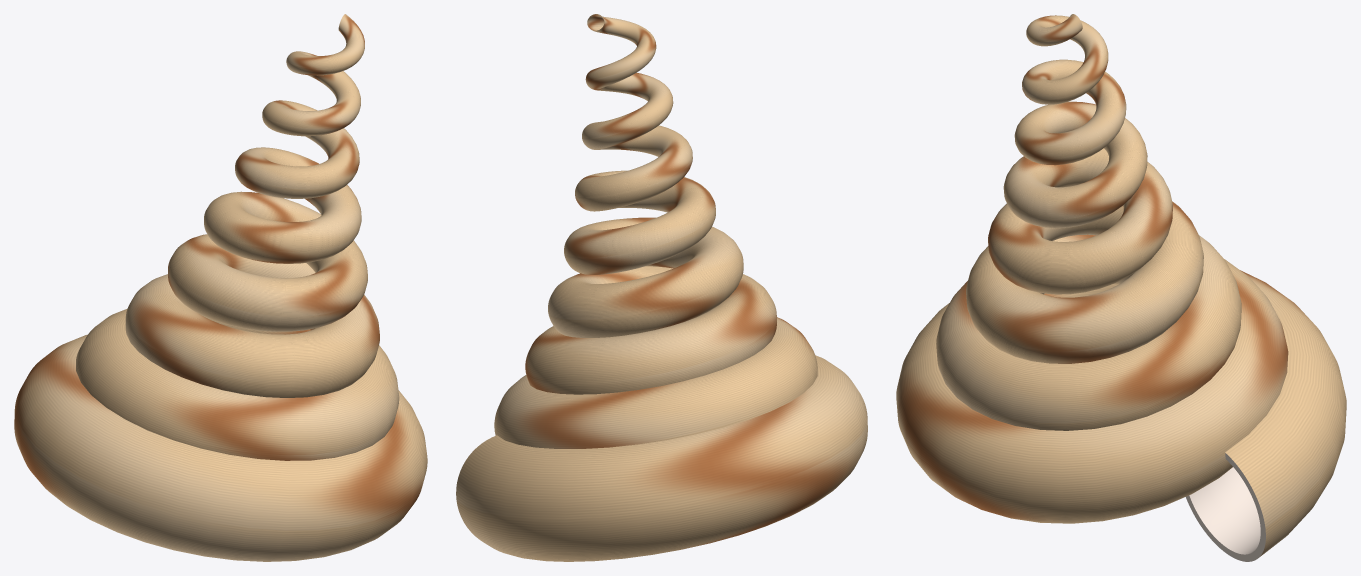
File: auger.glb
The picture shows the model from 3 angles, left to right: view 1: azimuth 30°, elevation 25°; view 2: azimuth 150°, elevation 25°; view 3: azimuth 270°, elevation 25°; orthographic projection. The views are drawn at different scales.
Parts seen in each view (by area): view 1: auger.001; view 2: auger.001; view 3: auger.001.
Boxes of the visible parts, x1=… form: auger.001: x1=14, y1=14, x2=427, y2=561; auger.001: x1=456, y1=14, x2=867, y2=561; auger.001: x1=896, y1=14, x2=1346, y2=561.
Bounding box in the file's own units: 1.42 × 2.01 × 1.52.
Materials: 3 (1 with a texture image).
